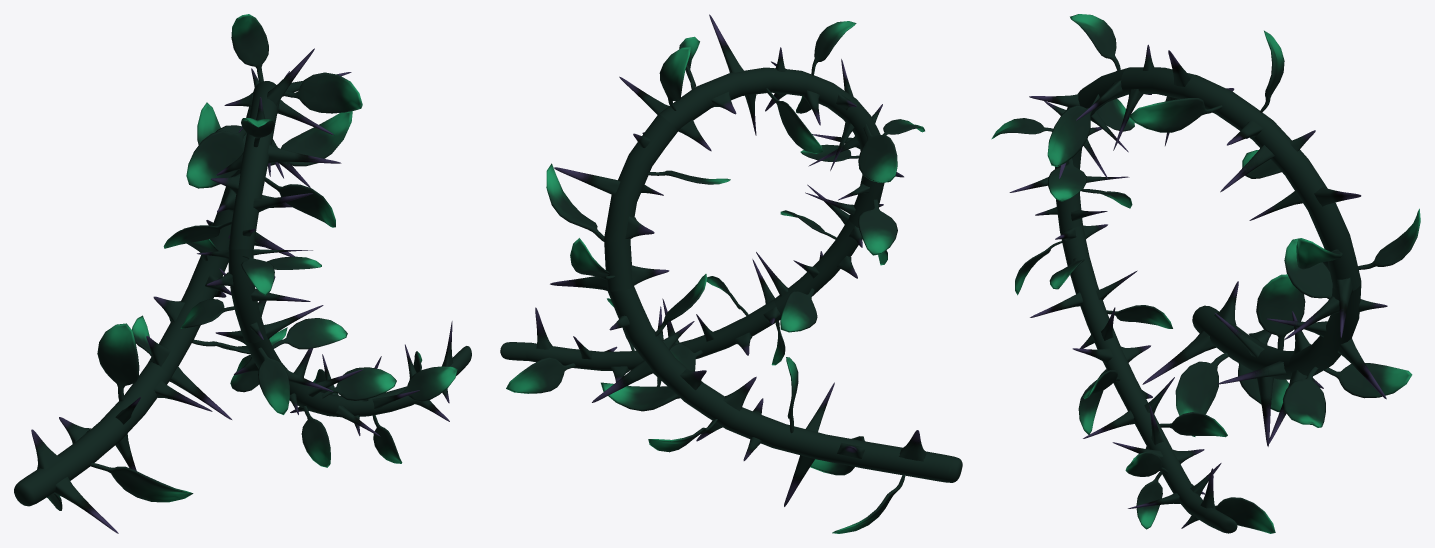
The model's file is Vine_loop.fbx.
3 views of the same model, side by side, from view 1: azimuth 30°, elevation 25°; view 2: azimuth 150°, elevation 25°; view 3: azimuth 270°, elevation 25° (orthographic). The views are drawn at different scales.
Parts seen in each view (by area): view 1: Vine_loop; view 2: Vine_loop; view 3: Vine_loop.
Part boxes in pixels (x1=…): Vine_loop: x1=14, y1=14, x2=471, y2=533; Vine_loop: x1=500, y1=14, x2=962, y2=533; Vine_loop: x1=991, y1=14, x2=1420, y2=533.
Bounding box in the file's own units: 92.16 × 86.23 × 71.46.
1 material, 1 textured.
